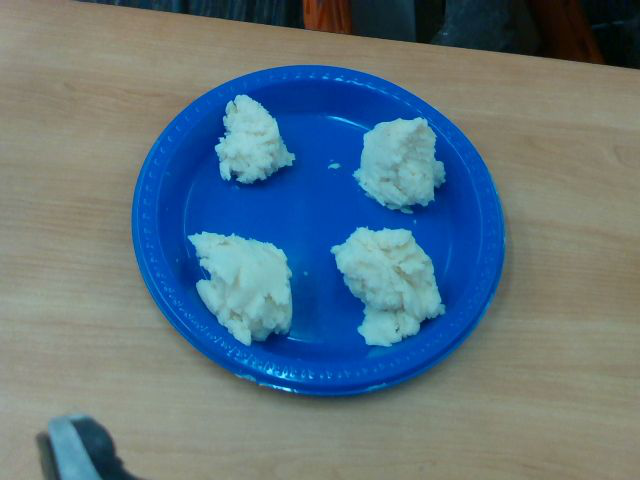mashed_potato: (330, 227, 445, 346), (184, 232, 293, 346), (355, 116, 446, 210), (215, 94, 296, 184)
